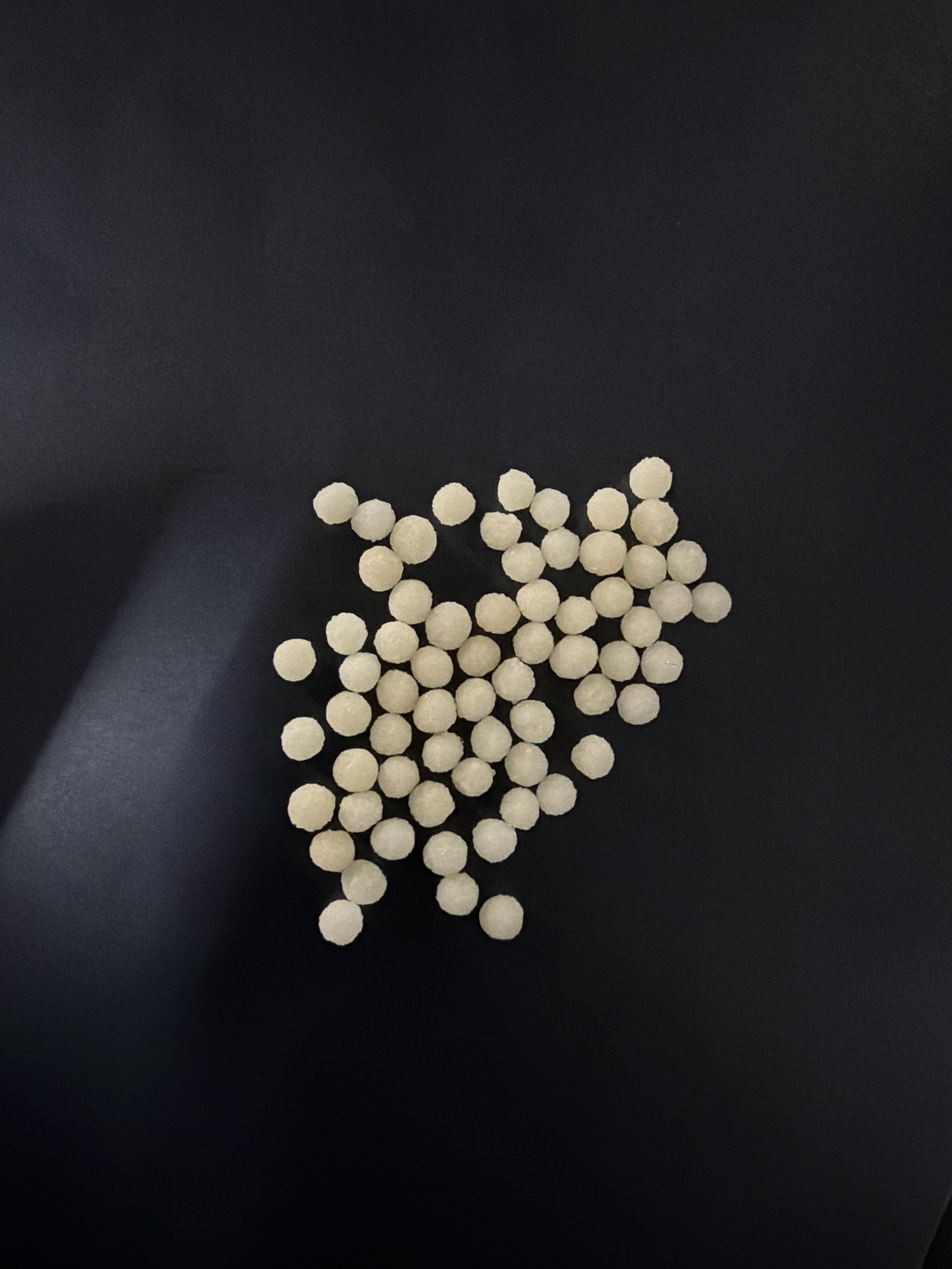pill: (288, 783, 336, 832), (389, 516, 437, 564), (425, 601, 472, 650), (630, 499, 678, 546), (408, 781, 455, 827), (341, 859, 387, 906), (579, 531, 627, 576), (358, 545, 403, 592), (549, 635, 597, 679), (422, 830, 467, 876), (318, 900, 363, 945), (491, 657, 535, 703), (332, 748, 378, 792), (388, 579, 432, 625), (325, 692, 371, 736), (479, 895, 523, 940), (504, 742, 548, 787), (510, 700, 555, 744), (413, 689, 457, 734), (337, 790, 383, 833), (623, 544, 666, 589), (374, 621, 419, 664), (350, 499, 395, 542), (571, 734, 614, 778), (649, 580, 693, 623), (281, 717, 324, 761), (432, 482, 475, 526), (470, 717, 512, 762), (370, 818, 415, 860), (309, 830, 354, 872), (313, 482, 358, 524), (473, 819, 516, 862), (641, 640, 683, 684), (517, 578, 559, 622), (457, 635, 501, 677), (501, 541, 545, 583), (475, 593, 520, 634), (377, 669, 418, 714), (617, 683, 660, 725), (590, 576, 633, 618), (629, 457, 672, 499), (586, 487, 628, 530), (411, 645, 453, 688), (369, 713, 412, 755), (273, 639, 316, 681), (437, 872, 478, 916), (455, 678, 496, 722), (666, 539, 706, 584), (535, 773, 577, 815), (574, 674, 616, 716), (378, 756, 419, 799), (326, 612, 367, 655), (451, 757, 495, 797), (598, 640, 639, 682), (513, 623, 554, 665), (529, 488, 570, 530), (339, 651, 380, 693), (540, 527, 580, 570), (620, 606, 661, 647), (500, 787, 539, 830), (555, 595, 598, 634), (692, 582, 732, 623), (422, 732, 462, 773), (480, 512, 522, 551), (497, 469, 535, 511)
